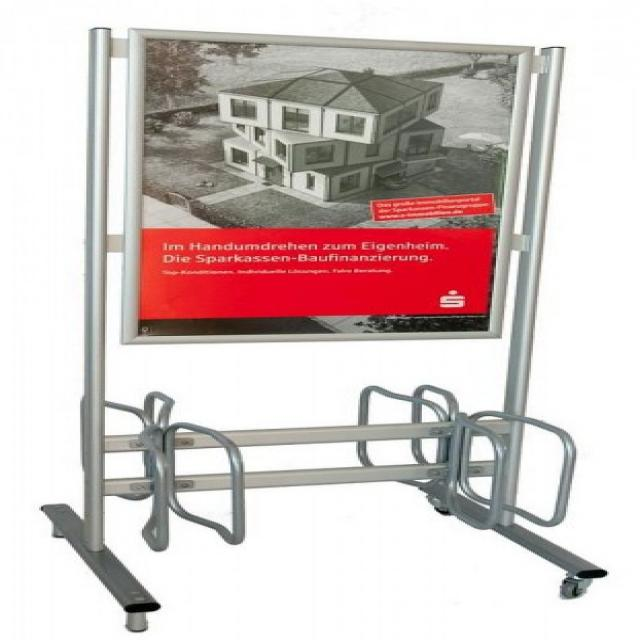Werbetafel frei: (113, 24, 540, 350)
